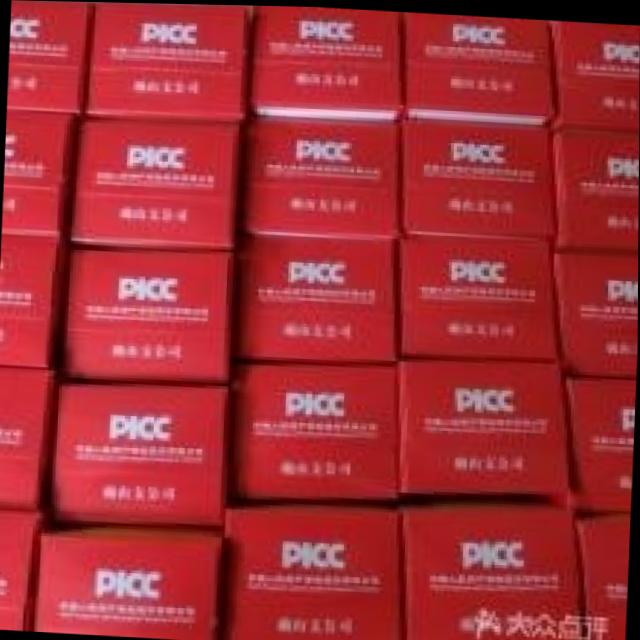box: (52, 381, 227, 525), (220, 504, 404, 640), (407, 504, 585, 640), (402, 356, 571, 496), (235, 359, 401, 498), (61, 247, 237, 378), (69, 113, 240, 247), (35, 523, 227, 638), (234, 231, 398, 357), (236, 117, 402, 235), (400, 235, 561, 355), (399, 119, 557, 238), (82, 2, 243, 116), (250, 4, 402, 119), (402, 12, 555, 125), (557, 243, 639, 371), (545, 21, 640, 130), (554, 130, 639, 243), (8, 0, 90, 116), (4, 108, 78, 236), (568, 368, 634, 507), (1, 231, 65, 366), (0, 366, 59, 509), (583, 513, 628, 640), (0, 511, 44, 627)
